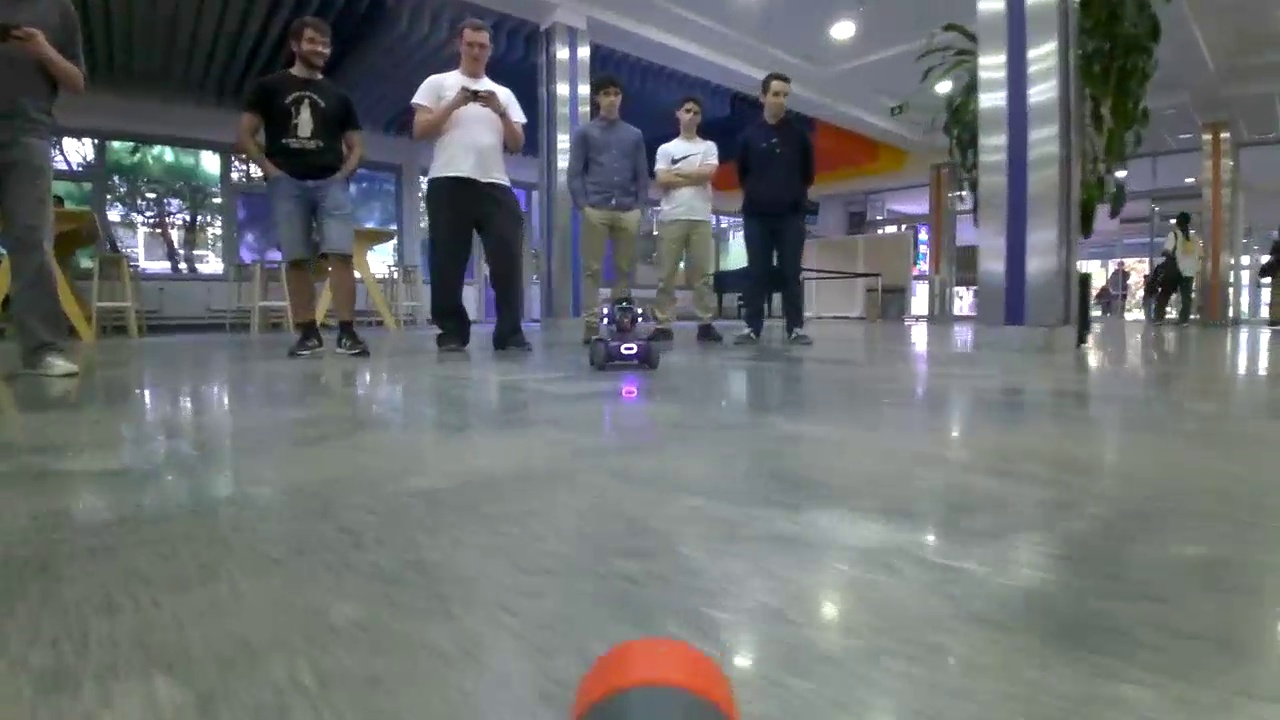robot: (585, 298, 664, 371)
